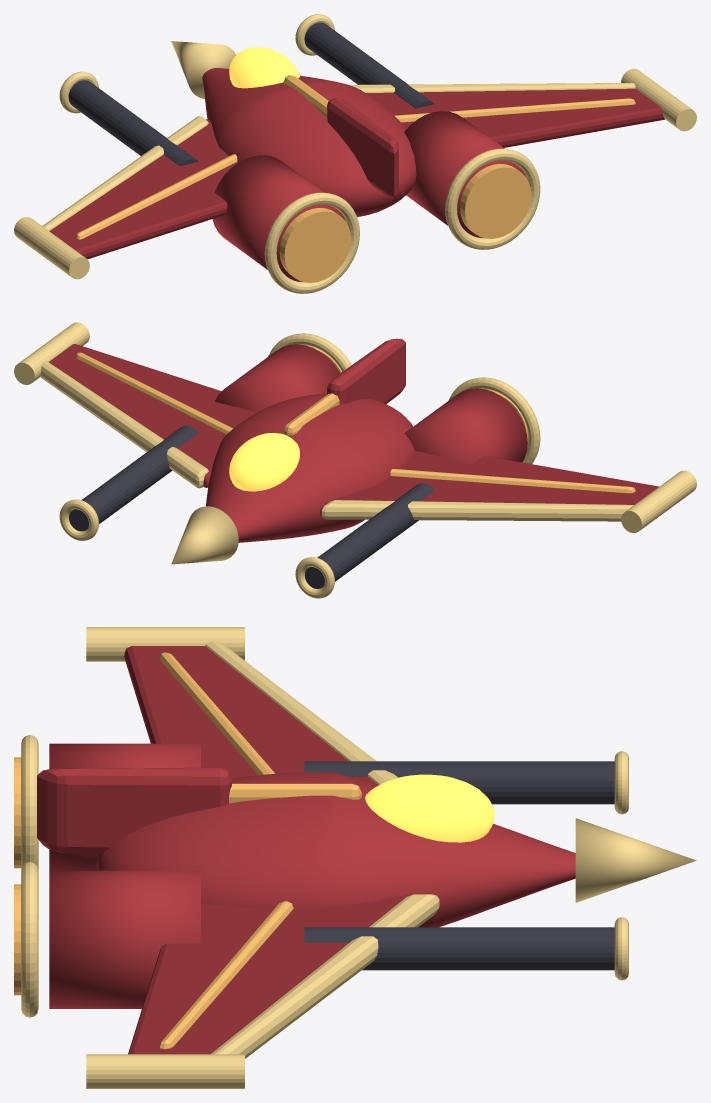
The model's file is SM_Ship_Scarab.fbx.
The picture shows the model from 3 angles, top to bottom: view 1: azimuth 30°, elevation 25°; view 2: azimuth 150°, elevation 25°; view 3: azimuth 270°, elevation 25°; orthographic projection. The views are drawn at different scales.
Visible parts, largest first — view 1: SM_Ship_Scarab; view 2: SM_Ship_Scarab; view 3: SM_Ship_Scarab.
Part boxes in pixels (x1,y1,x2,y2): SM_Ship_Scarab: (14,14,696,293); SM_Ship_Scarab: (14,322,696,598); SM_Ship_Scarab: (14,627,696,1088).
Size of the model in its own units: 3.62 by 0.68 by 2.37.
